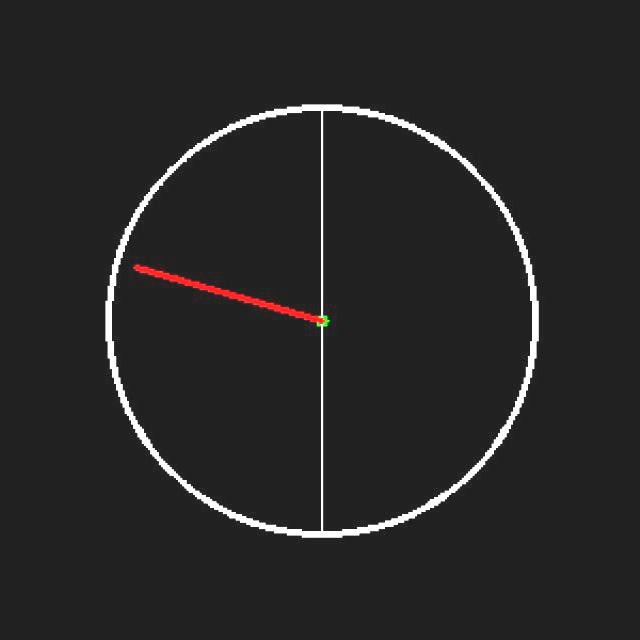Needle_Tip: (109, 241, 175, 303)
Needle_base: (296, 296, 361, 357)
